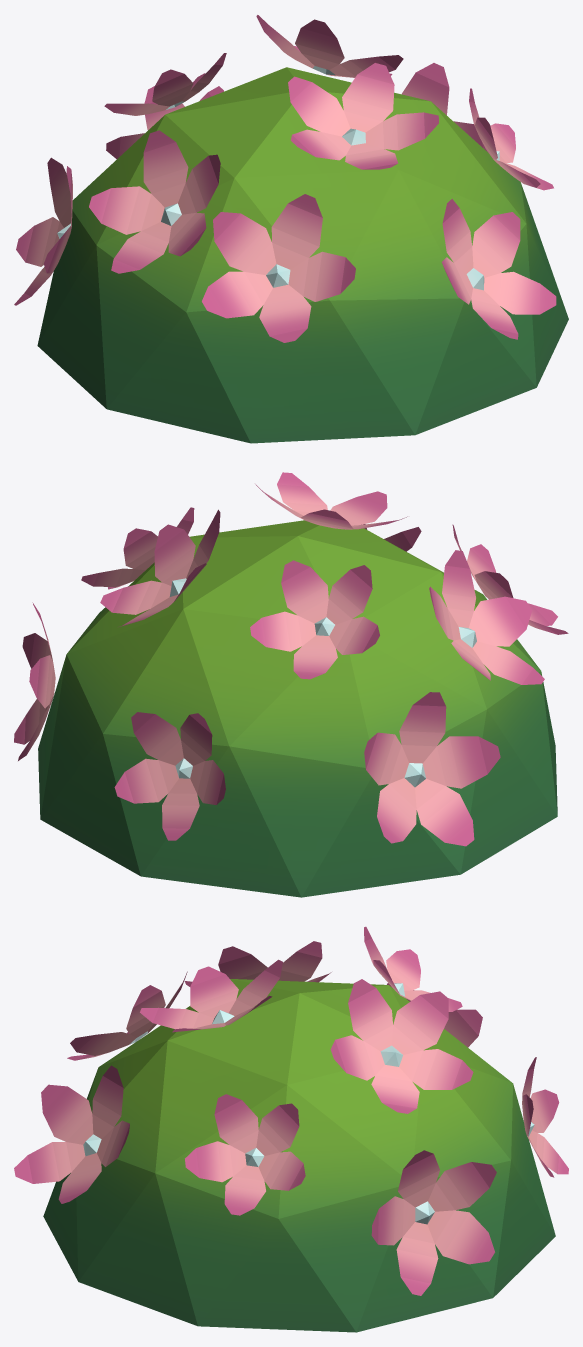
Rendered from rosa-2.glb.
3 renders of one model, top to bottom at view 1: azimuth 30°, elevation 25°; view 2: azimuth 150°, elevation 25°; view 3: azimuth 270°, elevation 25°, orthographic. The views are drawn at different scales.
Parts seen in each view (by area): view 1: Flower.019; view 2: Flower.019; view 3: Flower.019.
Boxes of the visible parts, x1=… form: Flower.019: x1=14, y1=15, x2=568, y2=443; Flower.019: x1=14, y1=472, x2=568, y2=897; Flower.019: x1=14, y1=926, x2=568, y2=1332.
Bounding box in the file's own units: 2 × 1.15 × 2.16.
Materials: 1 (1 with a texture image).
